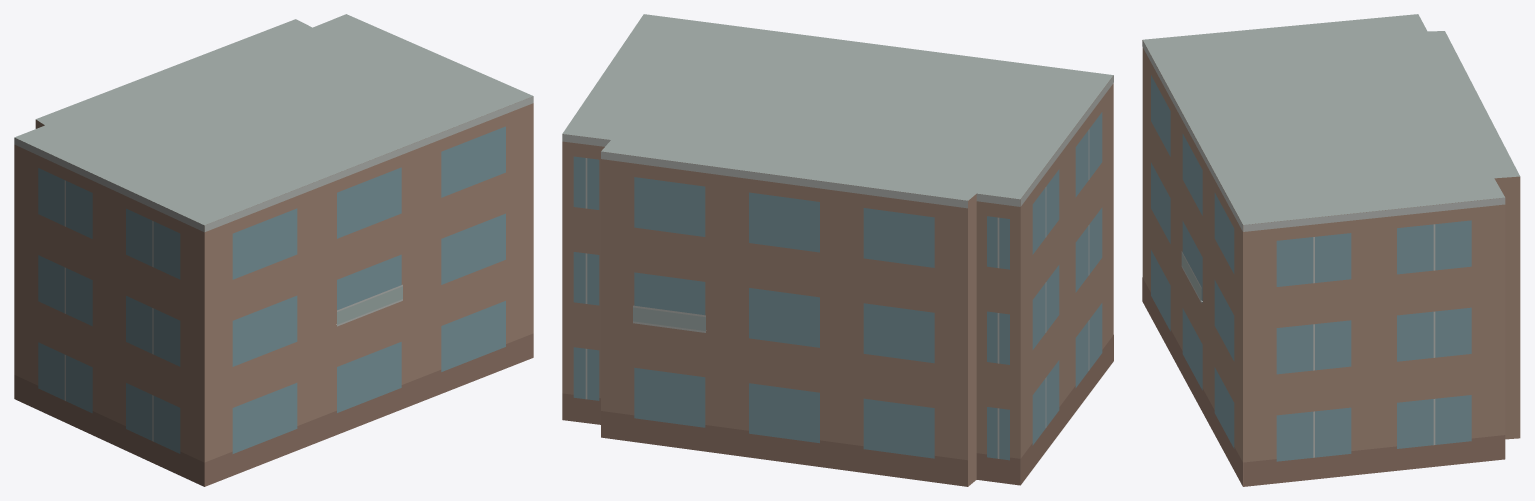
File: survey-upis-32749812.glb
3 views of the same model, side by side, from view 1: azimuth 30°, elevation 25°; view 2: azimuth 150°, elevation 25°; view 3: azimuth 270°, elevation 25° (orthographic). The views are drawn at different scales.
Parts seen in each view (by area): view 1: survey-upis-32749812.tmp; view 2: survey-upis-32749812.tmp; view 3: survey-upis-32749812.tmp.
Boxes of the visible parts, x1=… form: survey-upis-32749812.tmp: x1=14, y1=14, x2=533, y2=486; survey-upis-32749812.tmp: x1=562, y1=14, x2=1113, y2=486; survey-upis-32749812.tmp: x1=1142, y1=14, x2=1520, y2=486.
Size of the model in its own units: 15.83 by 9.15 by 11.98.
